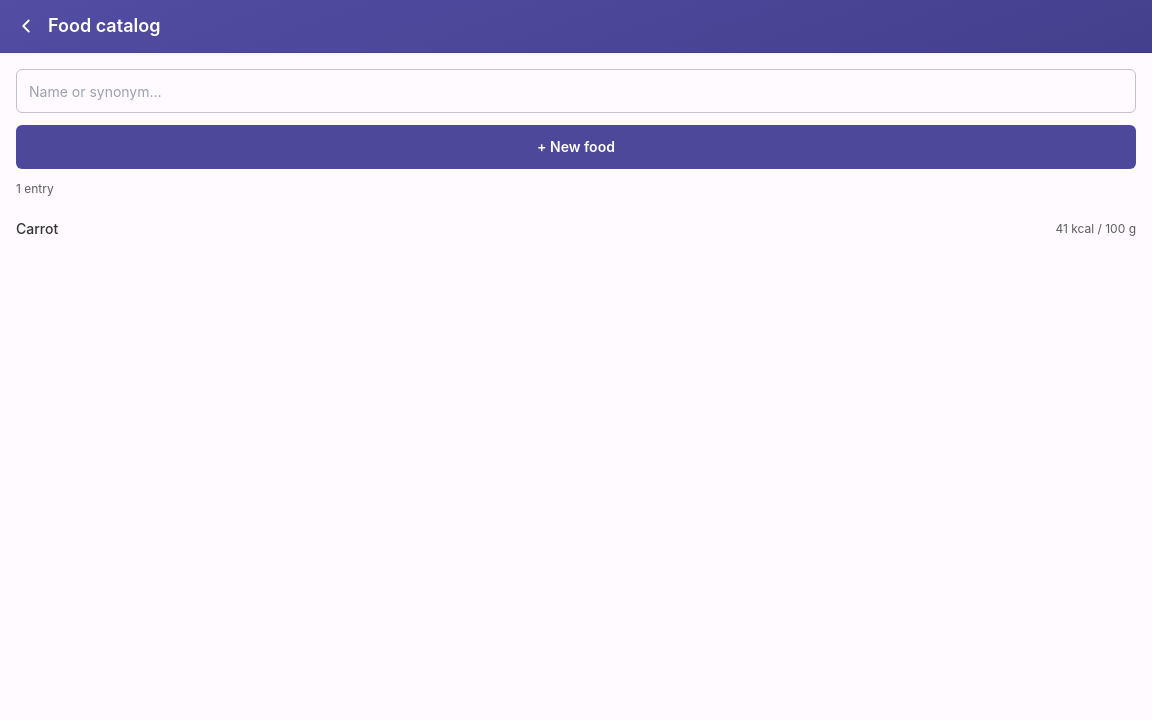
Test: CatalogManagerScreen — English locale › opens the editor with both names
The width and height of the screenshot is (1152, 720).
Click the button with aria-label "Edit Carrot" at (37, 228), box [16,209,1136,249]
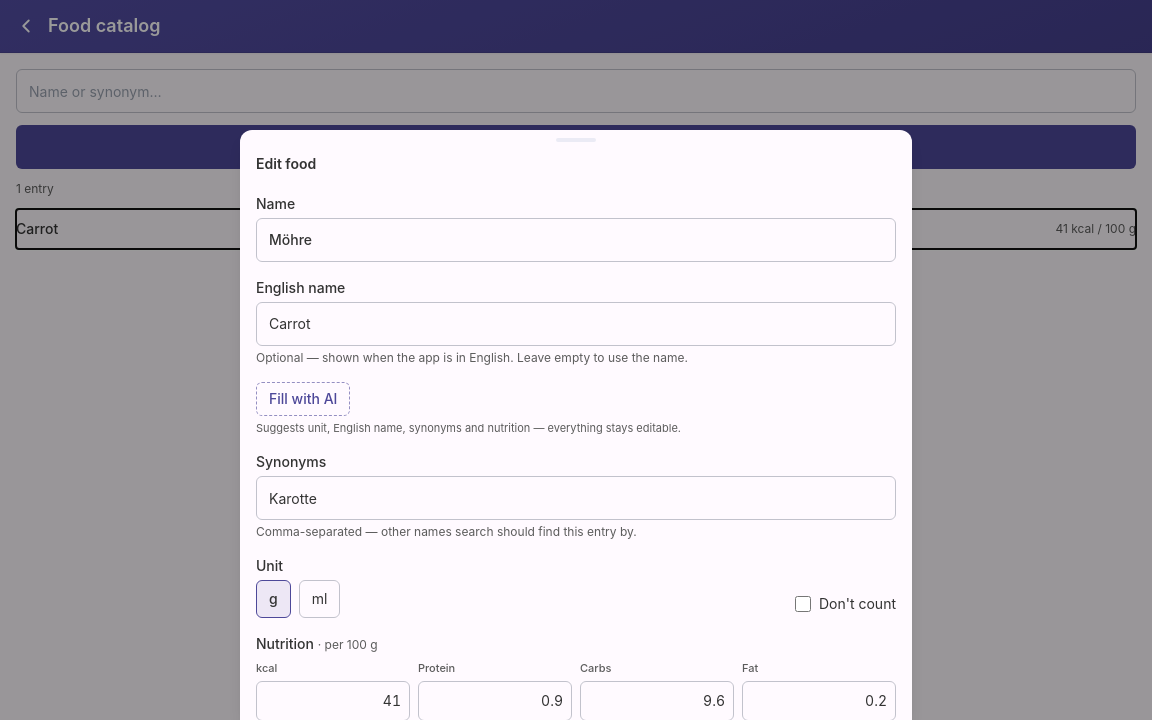
Check: the field labelled "Name" holds "Möhre", box [256,218,896,262]
Check: the field labelled "English name" holds "Carrot", box [256,302,896,346]
